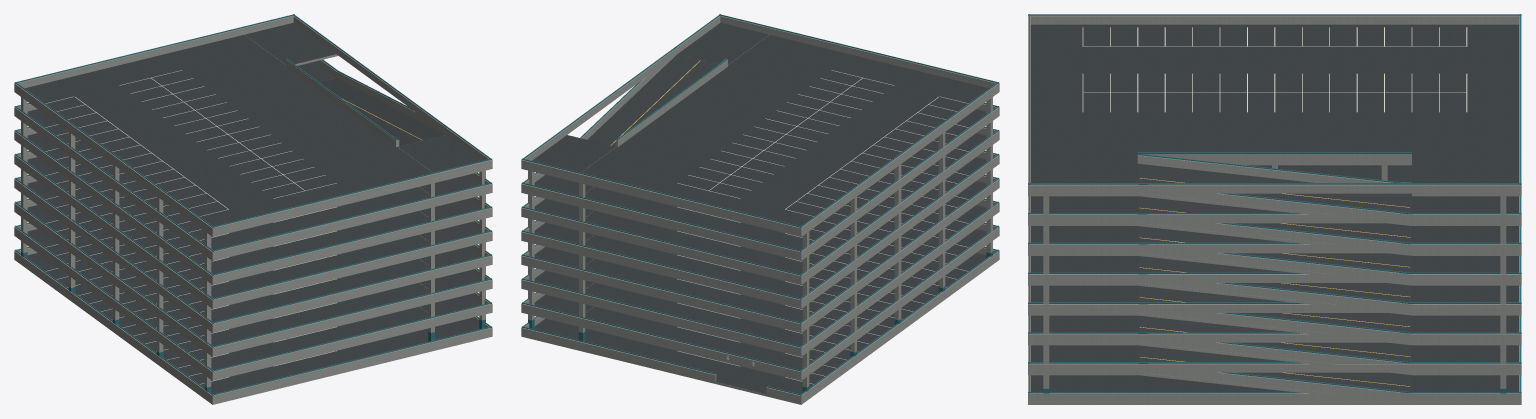
The model's file is medium_08.glb.
The picture shows the model from 3 angles, left to right: view 1: azimuth 30°, elevation 25°; view 2: azimuth 150°, elevation 25°; view 3: azimuth 270°, elevation 25°; orthographic projection. The views are drawn at different scales.
Parts seen in each view (by area): view 1: medium_08_Asphalt, medium_08_Concrete, medium_08_Teal, medium_08_Paint; view 2: medium_08_Asphalt, medium_08_Concrete, medium_08_Teal, medium_08_Paint; view 3: medium_08_Asphalt, medium_08_Concrete, medium_08_Teal, medium_08_Paint, medium_08_Yellow.
Part boxes in pixels (bbox=[...]): medium_08_Asphalt: bbox=[25, 22, 481, 393]; medium_08_Concrete: bbox=[14, 15, 492, 404]; medium_08_Teal: bbox=[14, 14, 492, 395]; medium_08_Paint: bbox=[45, 70, 336, 384]; medium_08_Asphalt: bbox=[532, 22, 988, 393]; medium_08_Concrete: bbox=[521, 15, 999, 404]; medium_08_Teal: bbox=[521, 14, 999, 395]; medium_08_Paint: bbox=[677, 70, 968, 384]; medium_08_Asphalt: bbox=[1030, 24, 1518, 391]; medium_08_Concrete: bbox=[1028, 15, 1521, 404]; medium_08_Teal: bbox=[1028, 14, 1521, 393]; medium_08_Paint: bbox=[1082, 27, 1467, 112]; medium_08_Yellow: bbox=[1140, 178, 1410, 386].
Size of the model in its own units: 44 by 26.68 by 54.02.
6 materials, 2 textured.
